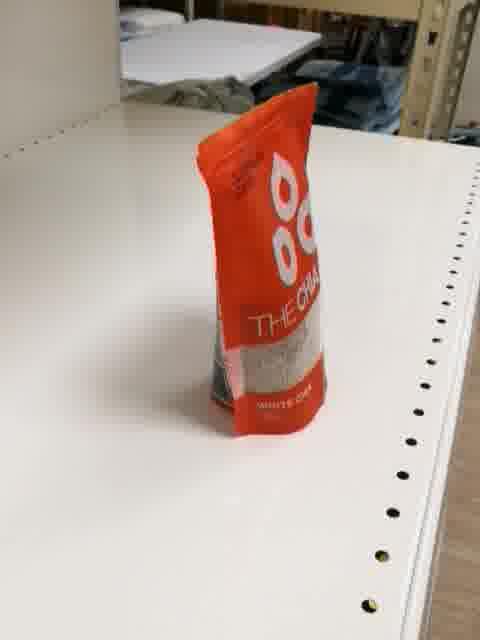whitechia: (193, 76, 335, 444)
